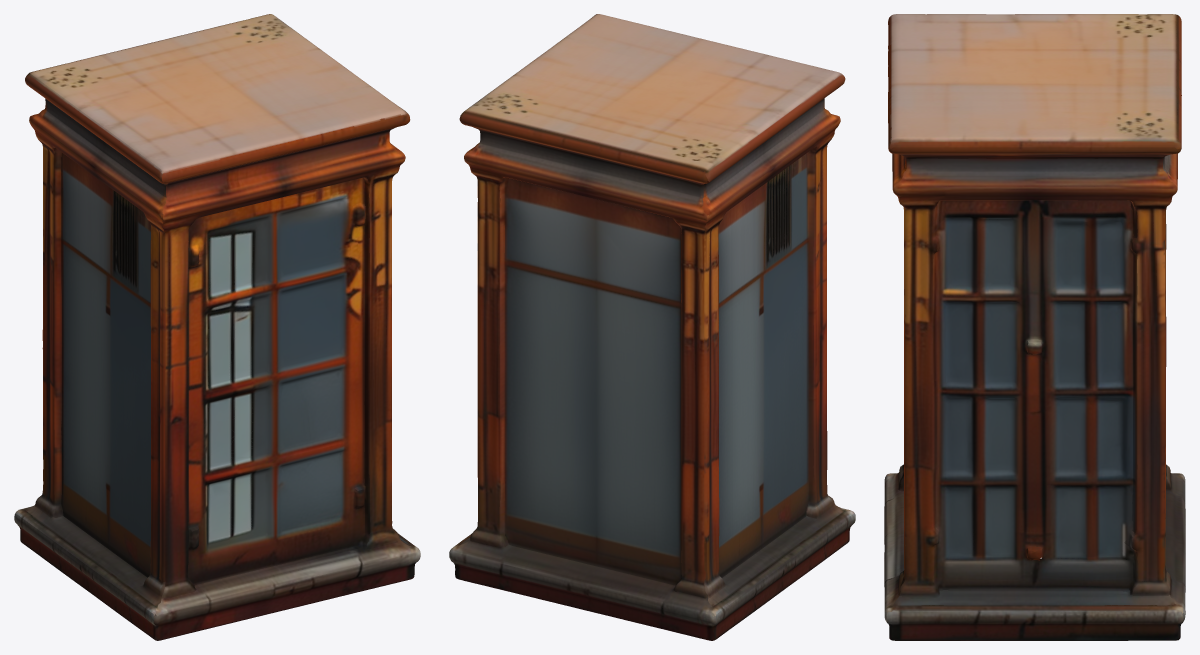
File: cabina_telefono.glb
3 renders of one model, left to right at view 1: azimuth 30°, elevation 25°; view 2: azimuth 150°, elevation 25°; view 3: azimuth 270°, elevation 25°, orthographic. The views are drawn at different scales.
Visible parts, largest first — view 1: tmpes6qkrxn.ply; view 2: tmpes6qkrxn.ply; view 3: tmpes6qkrxn.ply.
Part boxes in pixels (<box>): tmpes6qkrxn.ply: <box>14,14,420,640</box>; tmpes6qkrxn.ply: <box>449,14,855,640</box>; tmpes6qkrxn.ply: <box>884,14,1185,640</box>.
Size of the model in its own units: 0.5926 by 0.9928 by 0.5422.
1 material, 1 textured.
